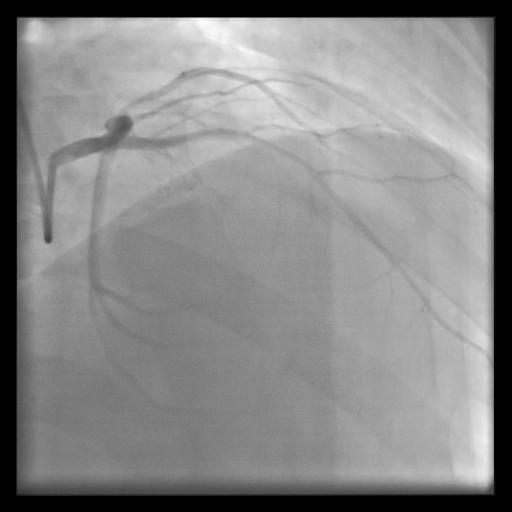Stenosis: (113, 92, 156, 114)
